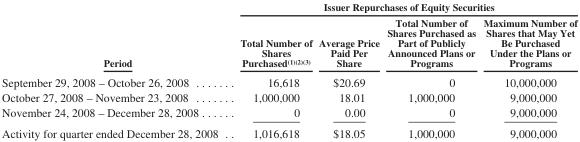table: (1, 1, 576, 139)
table column: (1, 1, 228, 139), (478, 1, 576, 139), (382, 1, 478, 139), (228, 1, 314, 139), (314, 1, 382, 139)
table column header: (1, 1, 576, 71)
table row: (1, 14, 576, 71), (1, 71, 576, 89), (1, 104, 576, 122), (1, 122, 576, 139), (1, 89, 576, 104), (1, 1, 576, 14)
table spanning cell: (1, 1, 228, 71), (228, 1, 576, 14)
